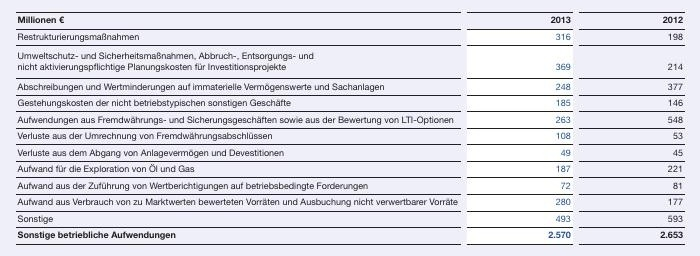table: (0, 0, 700, 256)
